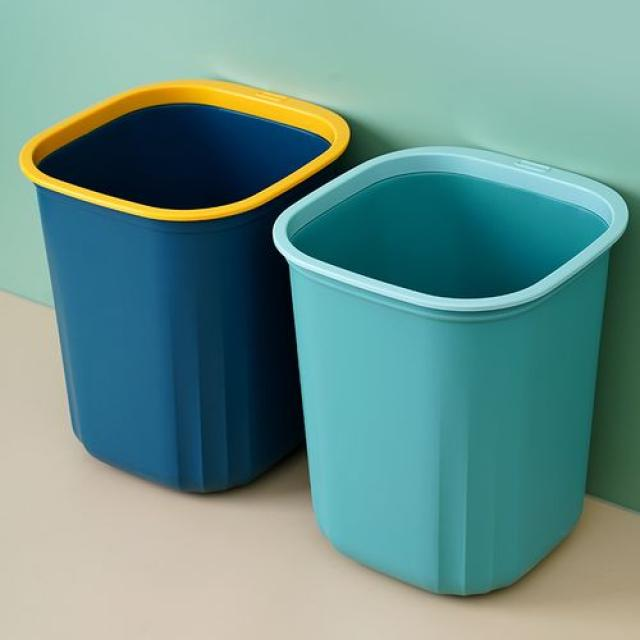dustbin: (267, 135, 633, 603), (19, 75, 355, 501)
